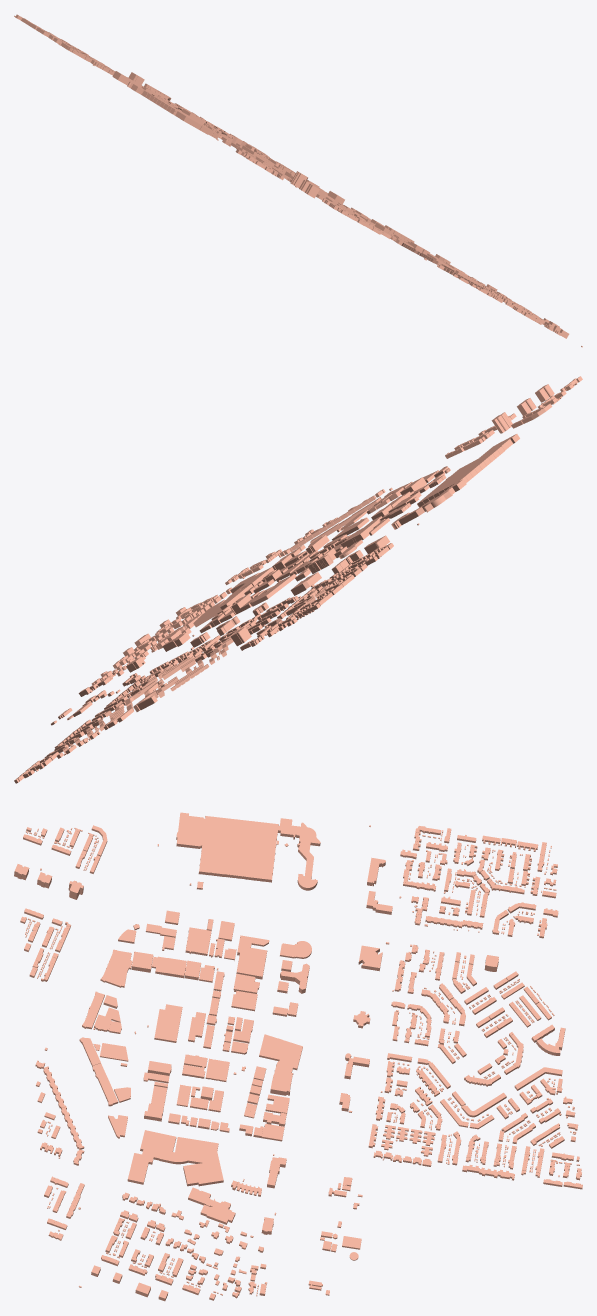
3 views of the same model, one above another, from view 1: azimuth 30°, elevation 25°; view 2: azimuth 150°, elevation 25°; view 3: azimuth 270°, elevation 25° (orthographic). The views are drawn at different scales.
Size of the model in its own units: 982 by 757 by 1270.
